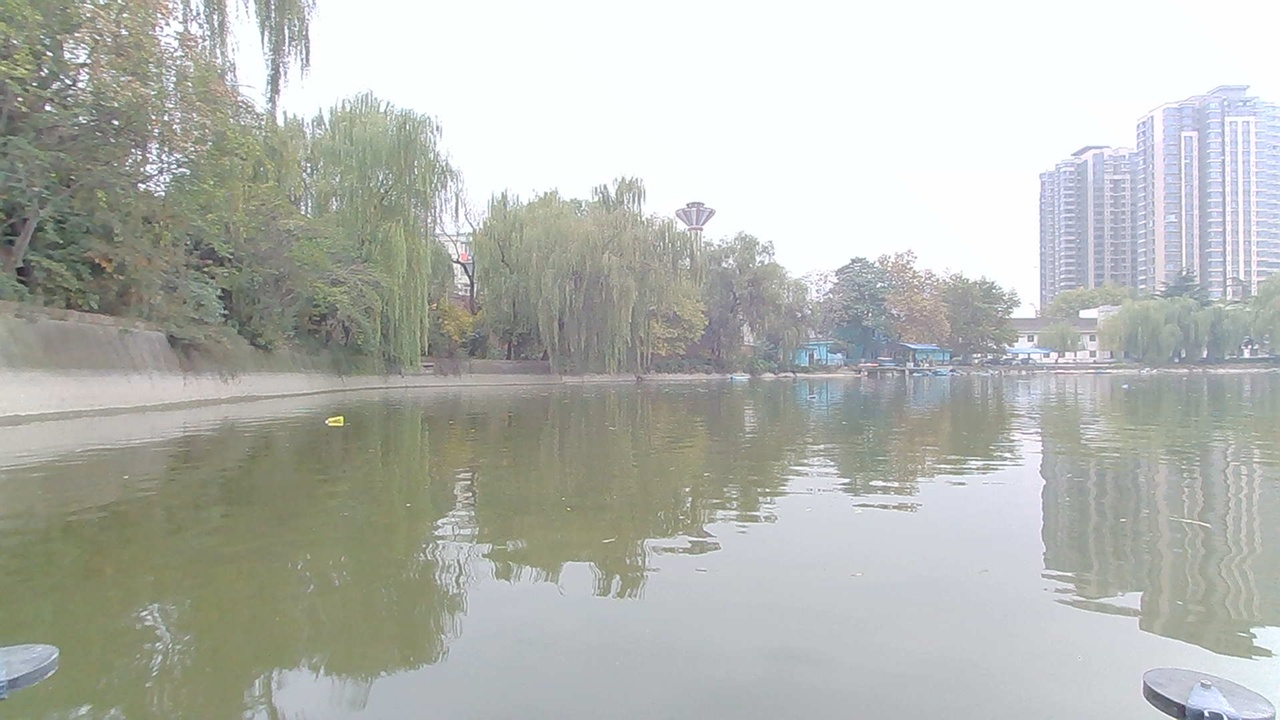bottle: (320, 410, 354, 433), (795, 388, 824, 403)
